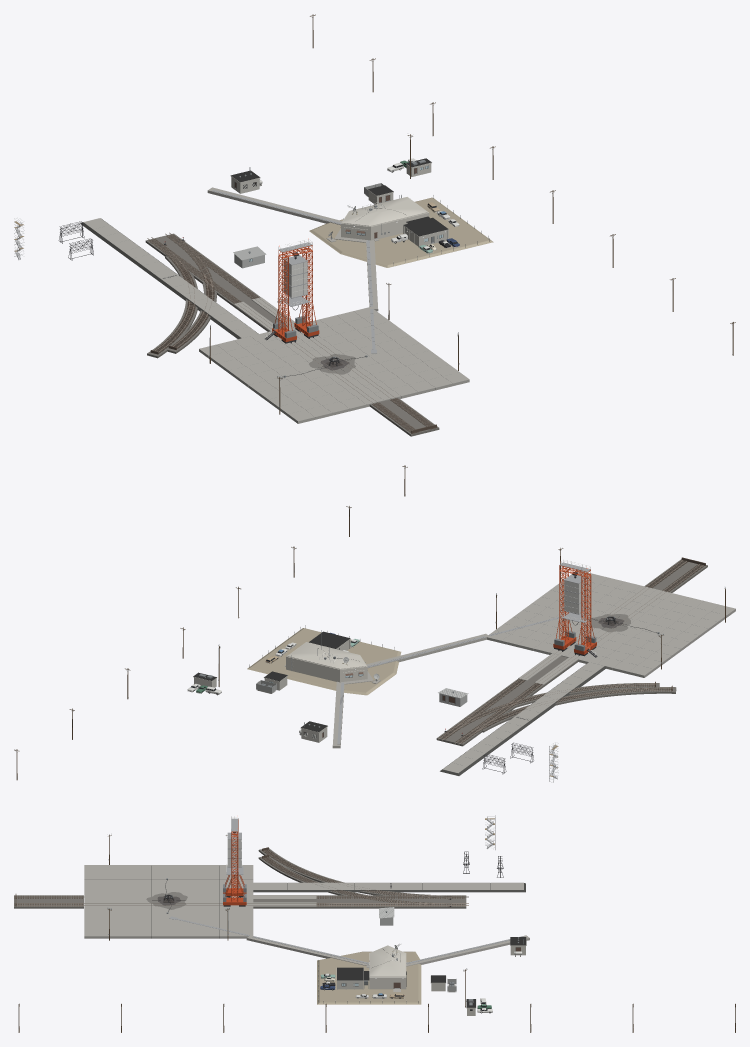
The picture shows the model from 3 angles, top to bottom: view 1: azimuth 30°, elevation 25°; view 2: azimuth 150°, elevation 25°; view 3: azimuth 270°, elevation 25°; orthographic projection. The views are drawn at different scales.
Parts seen in each view (by area): view 1: Pad6_Concrete, Track_Ballast, Blockhouse_Shell, Track_Tie, Road_Concrete, Pad6Gantry_Red, Track_Rail, Blockhouse_BunkerRoof, CableTrenches_ConcreteTrench, Track_BallastSpur, Blockhouse_Bunker, Road_Joint (+2 smaller); view 2: Pad6_Concrete, Track_Ballast, Blockhouse_Shell, Track_Tie, Road_Concrete, Track_Rail, Pad6Gantry_Red, Track_BallastSpur, Blockhouse_BunkerRoof, Blockhouse_Bunker, CableTrenches_ConcreteTrench, Track_Concrete (+2 smaller); view 3: Pad6_Concrete, Track_Ballast, Blockhouse_Shell, Road_Concrete, Track_Rail, Track_Tie, Track_BallastSpur, CableTrenches_ConcreteTrench, Blockhouse_BunkerRoof, Pad6Gantry_Red, Road_Joint, Track_Concrete (+5 smaller).
Part boxes in pixels (bbox=[...]): Pad6_Concrete: bbox=[199, 307, 469, 423]; Track_Ballast: bbox=[145, 233, 439, 436]; Blockhouse_Shell: bbox=[309, 197, 493, 267]; Track_Tie: bbox=[148, 234, 437, 433]; Road_Concrete: bbox=[83, 218, 258, 337]; Pad6Gantry_Red: bbox=[272, 245, 319, 341]; Track_Rail: bbox=[147, 232, 432, 430]; Blockhouse_BunkerRoof: bbox=[342, 197, 427, 225]; CableTrenches_ConcreteTrench: bbox=[207, 187, 378, 311]; Track_BallastSpur: bbox=[147, 256, 216, 358]; Blockhouse_Bunker: bbox=[341, 197, 429, 240]; Road_Joint: bbox=[80, 218, 258, 338]; Pad6_Concrete: bbox=[486, 570, 735, 677]; Track_Ballast: bbox=[436, 559, 707, 746]; Blockhouse_Shell: bbox=[247, 628, 401, 695]; Track_Tie: bbox=[439, 557, 705, 743]; Road_Concrete: bbox=[443, 662, 604, 773]; Track_Rail: bbox=[438, 560, 703, 744]; Pad6Gantry_Red: bbox=[553, 565, 596, 654]; Track_BallastSpur: bbox=[482, 683, 676, 732]; Blockhouse_BunkerRoof: bbox=[288, 642, 366, 668]; Blockhouse_Bunker: bbox=[286, 642, 367, 682]; CableTrenches_ConcreteTrench: bbox=[332, 633, 487, 748]; Track_Concrete: bbox=[518, 653, 577, 684]; Pad6_Concrete: bbox=[84, 865, 253, 938]; Track_Ballast: bbox=[14, 895, 466, 908]; Blockhouse_Shell: bbox=[317, 951, 421, 1004]; Road_Concrete: bbox=[253, 882, 523, 889]; Track_Rail: bbox=[16, 849, 468, 905]; Track_Tie: bbox=[14, 847, 464, 907]; Track_BallastSpur: bbox=[258, 848, 430, 895]; CableTrenches_ConcreteTrench: bbox=[246, 935, 529, 966]; Blockhouse_BunkerRoof: bbox=[370, 945, 405, 976]; Pad6Gantry_Red: bbox=[223, 819, 246, 905]; Road_Joint: bbox=[253, 883, 525, 892]; Track_Concrete: bbox=[253, 895, 316, 906].
Bounding box in the file's own units: 157 × 34.28 × 260.
